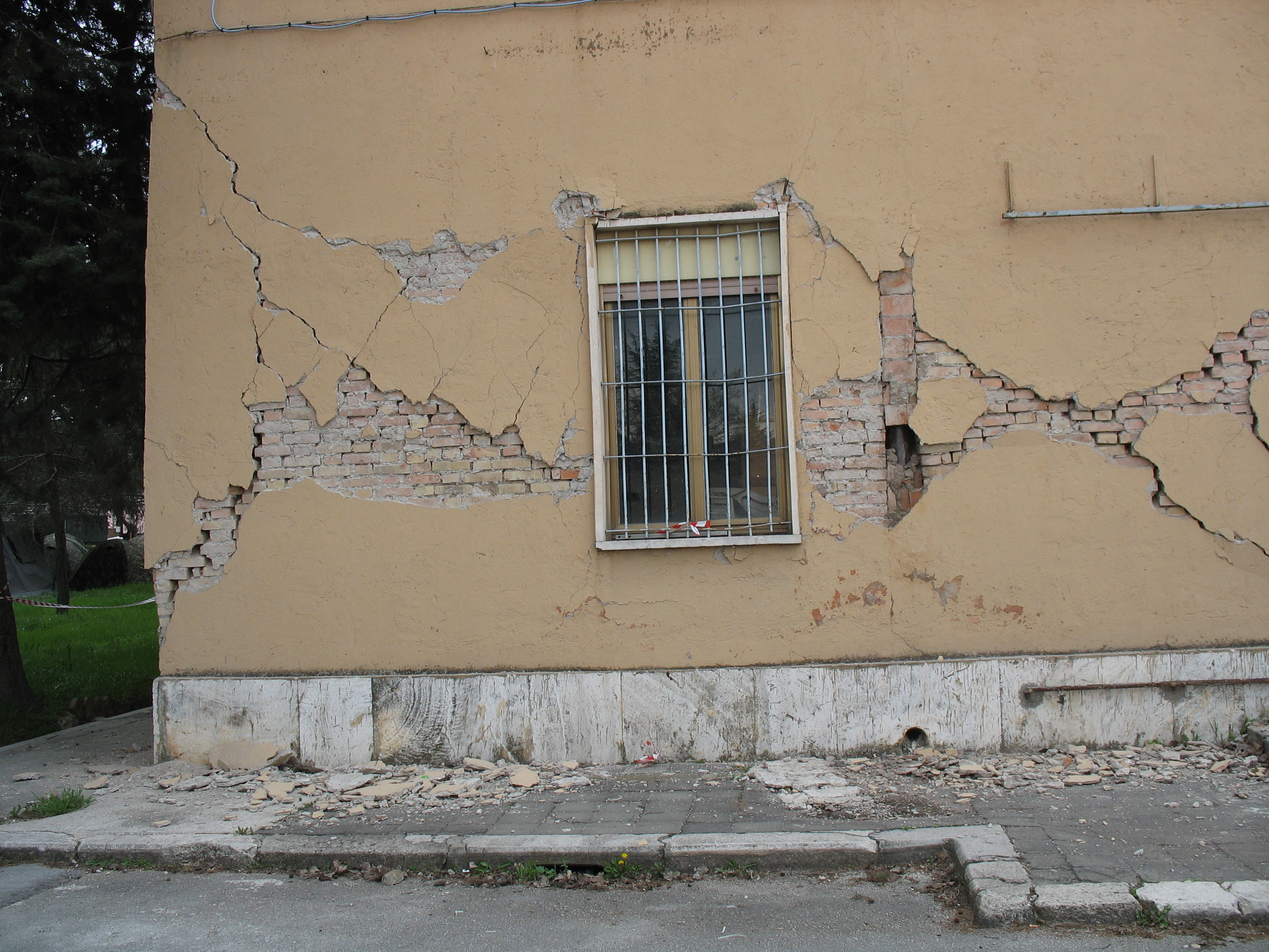Crack: (154, 48, 583, 646), (799, 225, 1268, 583), (748, 98, 838, 208), (539, 160, 627, 229)
Debris: (77, 734, 596, 830), (748, 740, 1268, 825)
Other damage/mechanism: (146, 80, 266, 654)
Spalling: (804, 268, 1265, 523), (258, 359, 590, 508), (158, 482, 251, 635), (368, 226, 512, 310)
